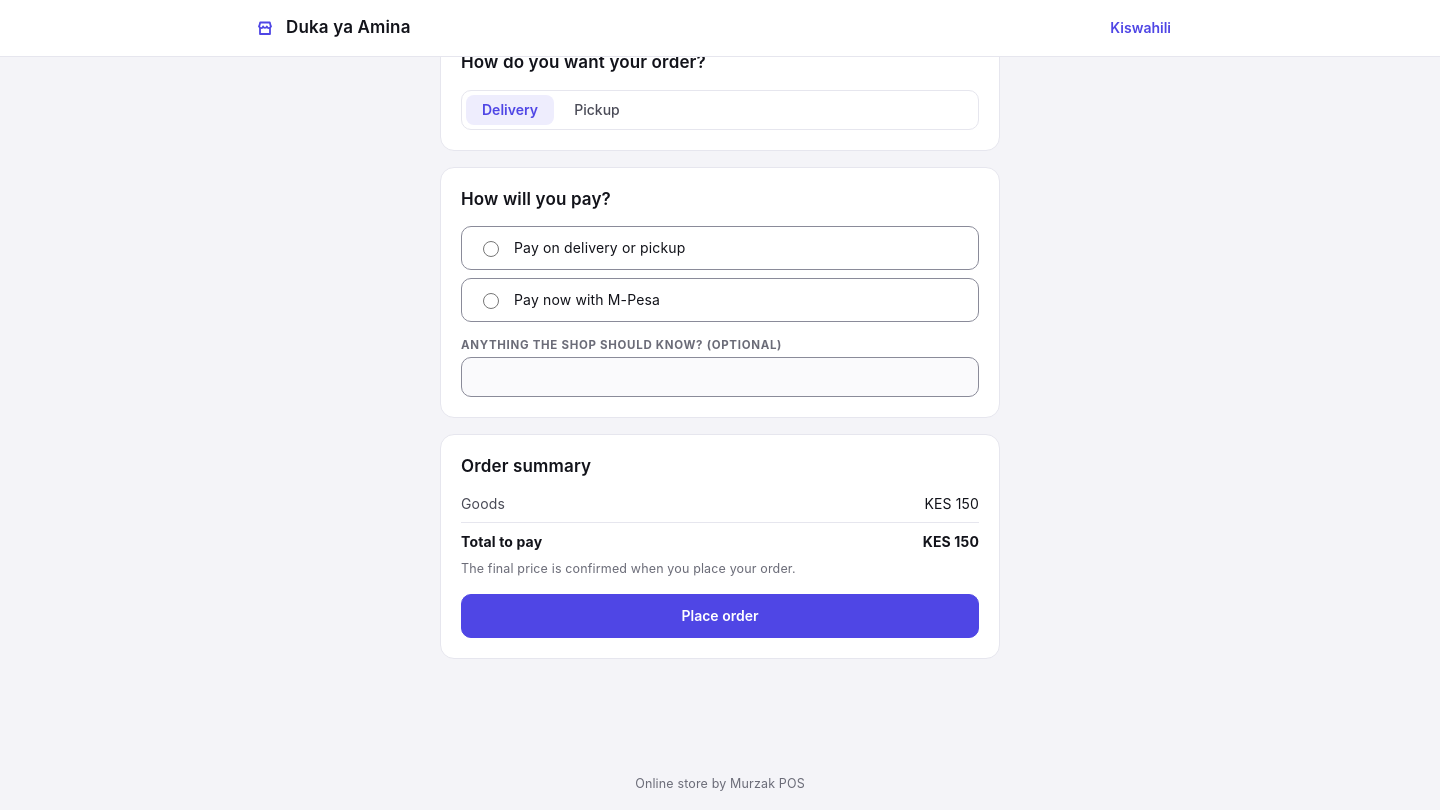
checkout › says what is missing and sends nothing
(page scrolled)
Click the button "Place order" at (720, 616), box [461, 594, 979, 638]
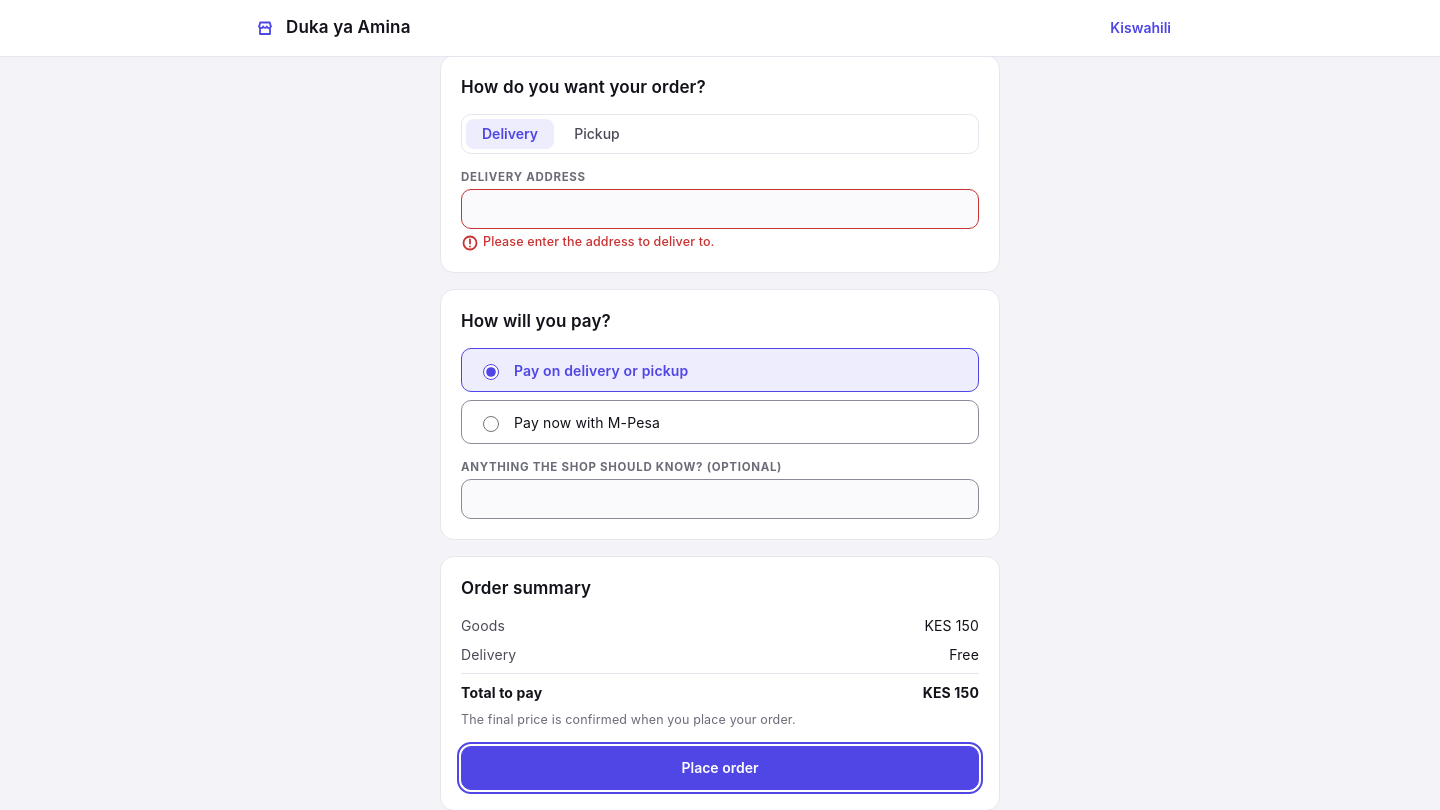
Now the text "Please enter the address to deliver to." is shown, box [483, 233, 715, 250]
